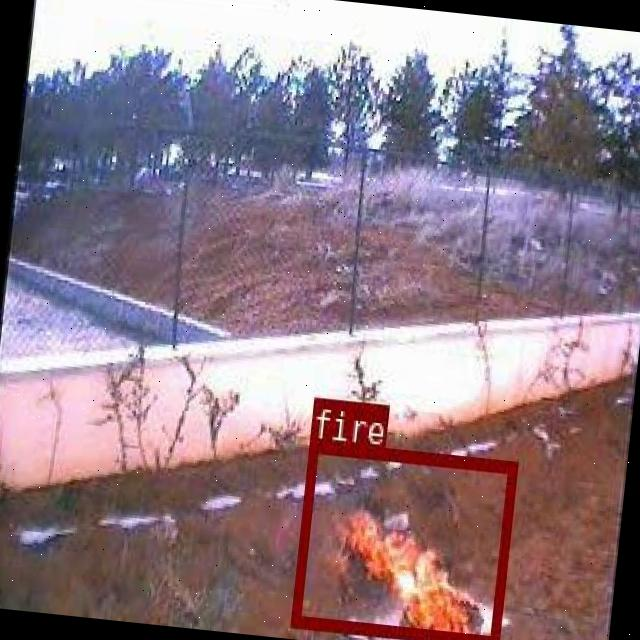fire: (289, 438, 515, 640)
